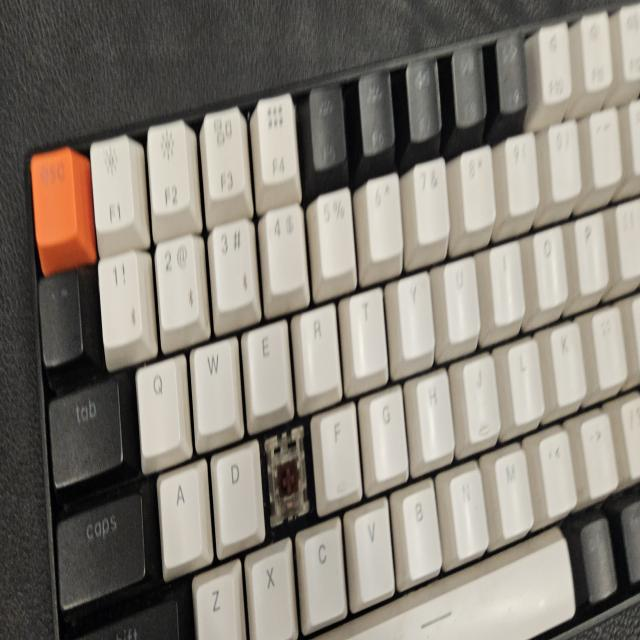C: (269, 441, 303, 525)
